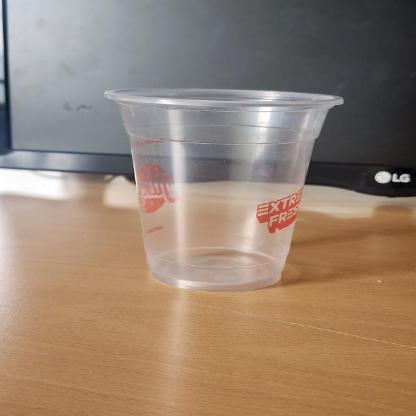Plastic Cup: (102, 84, 348, 292)
